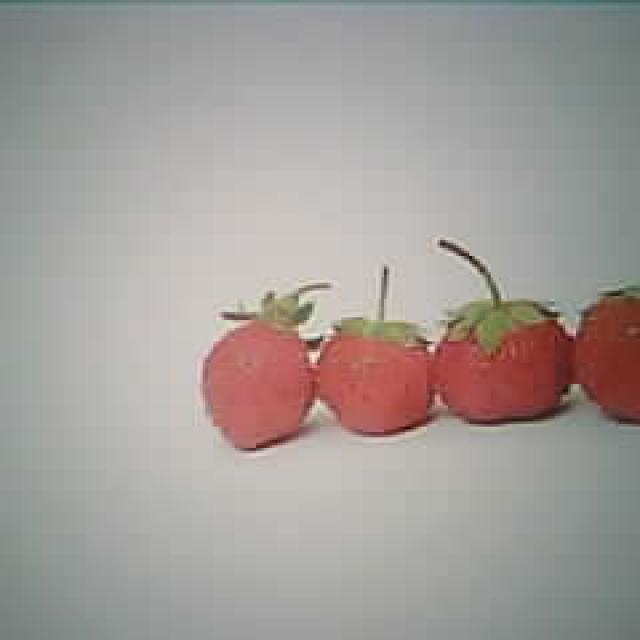strawberry: (434, 304, 570, 419), (202, 316, 318, 448), (317, 320, 433, 434)
